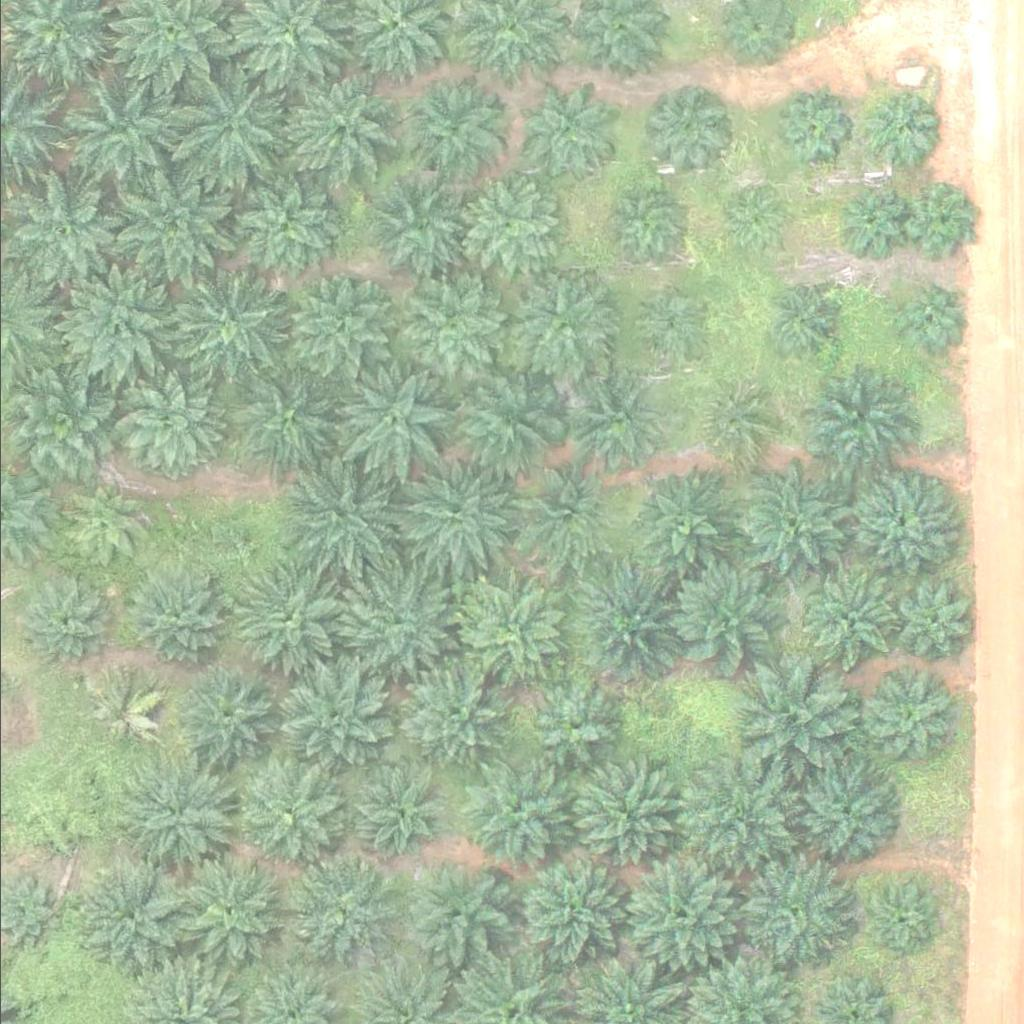Kelapa_Sawit: (793, 354, 919, 479), (327, 356, 453, 481), (732, 461, 858, 586), (662, 556, 788, 681), (729, 653, 855, 778), (670, 756, 796, 881), (505, 850, 631, 975), (105, 354, 231, 479), (3, 359, 129, 484), (165, 258, 291, 383), (56, 255, 182, 380), (222, 156, 348, 281), (112, 161, 238, 286), (2, 161, 128, 286), (272, 68, 398, 193), (164, 65, 290, 190), (63, 63, 189, 188), (564, 762, 678, 875), (279, 854, 393, 967), (449, 364, 562, 477), (395, 460, 508, 573), (460, 760, 573, 873), (342, 753, 455, 866), (394, 854, 507, 967), (171, 854, 284, 967), (70, 858, 183, 971), (235, 562, 348, 675), (122, 558, 235, 671), (283, 456, 396, 569), (626, 857, 740, 969), (509, 270, 622, 382), (394, 272, 507, 384), (623, 470, 736, 582), (507, 457, 620, 569), (570, 569, 683, 681), (451, 574, 564, 686), (341, 567, 454, 679), (396, 655, 509, 767), (742, 852, 855, 964), (231, 759, 344, 871), (117, 758, 230, 870), (280, 659, 393, 771), (230, 361, 343, 473), (278, 270, 391, 382), (854, 471, 955, 571), (14, 569, 115, 669), (54, 474, 155, 574), (516, 82, 616, 182), (401, 84, 501, 184), (455, 175, 555, 275), (367, 174, 467, 274), (798, 570, 898, 670), (792, 760, 892, 860), (77, 667, 166, 755), (642, 87, 730, 175), (599, 182, 687, 270), (529, 684, 617, 772), (177, 674, 265, 762), (576, 379, 664, 466), (889, 576, 977, 663), (863, 670, 951, 757), (858, 881, 934, 956), (696, 385, 771, 460), (863, 93, 938, 168), (771, 93, 846, 168), (905, 177, 980, 252), (827, 181, 902, 256), (890, 279, 965, 354), (760, 282, 835, 357), (630, 288, 705, 363), (720, 187, 783, 249)
